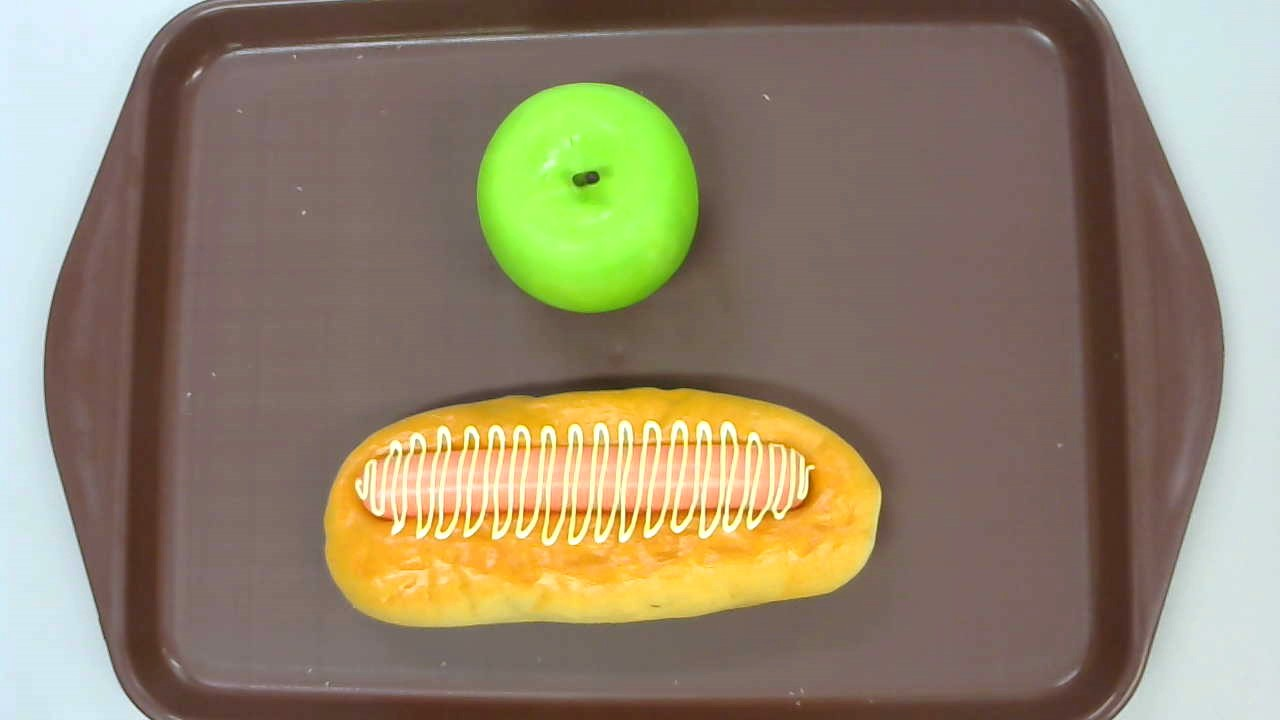green apple: (474, 81, 702, 317)
hot dog: (323, 387, 883, 630)
